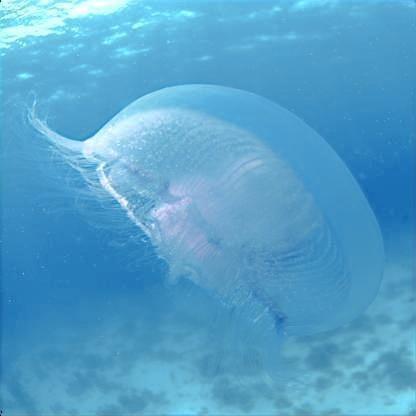Speckle: (75, 89, 385, 357)
